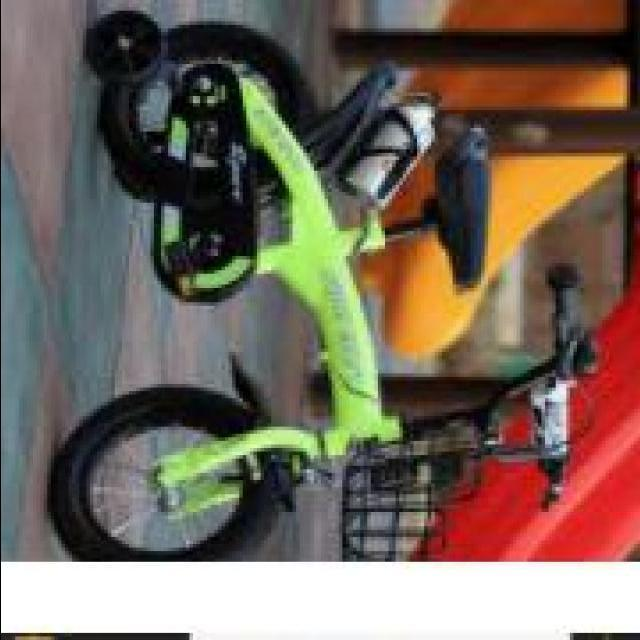bicycle: (47, 8, 598, 566)
